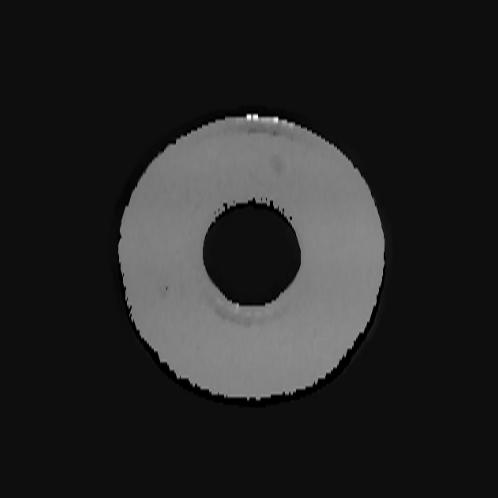defect: (269, 155, 288, 177), (159, 284, 169, 299)
